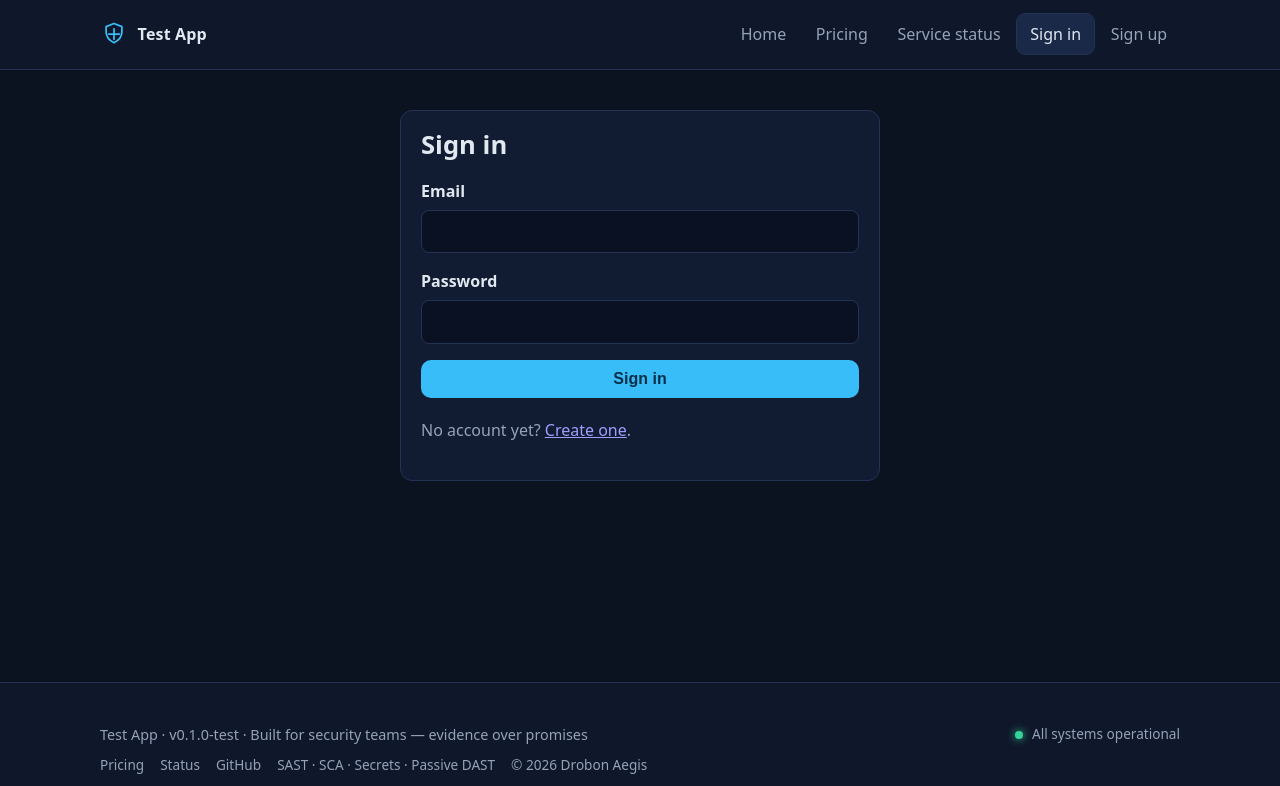
Scenario: login page › Pentester login lands on the Pentester assessment dashboard
Step 1. Type "pentester@example.test" into the field labelled "Email" → (640, 232), box 421,210 -> 859,253
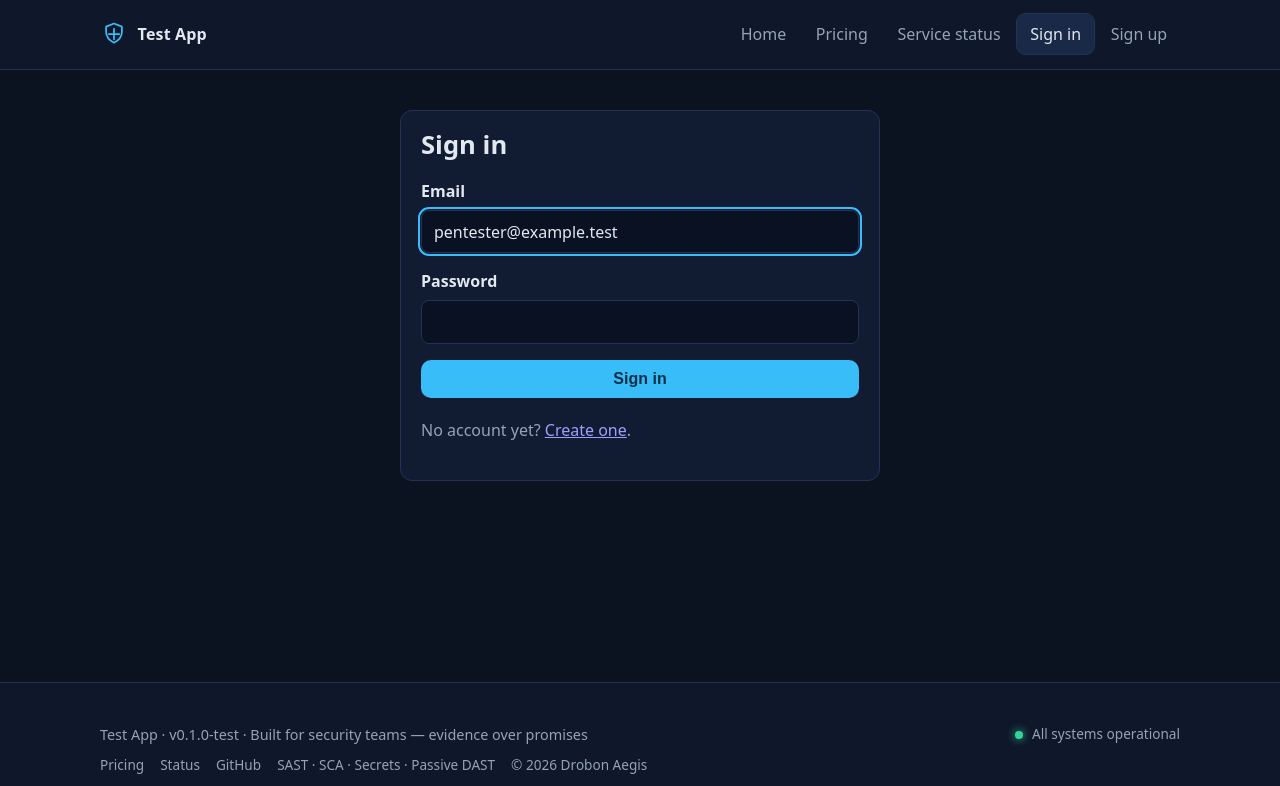
Step 2. Type "pentester-password" into the password field labelled "Password" → (640, 322), box 421,300 -> 859,344
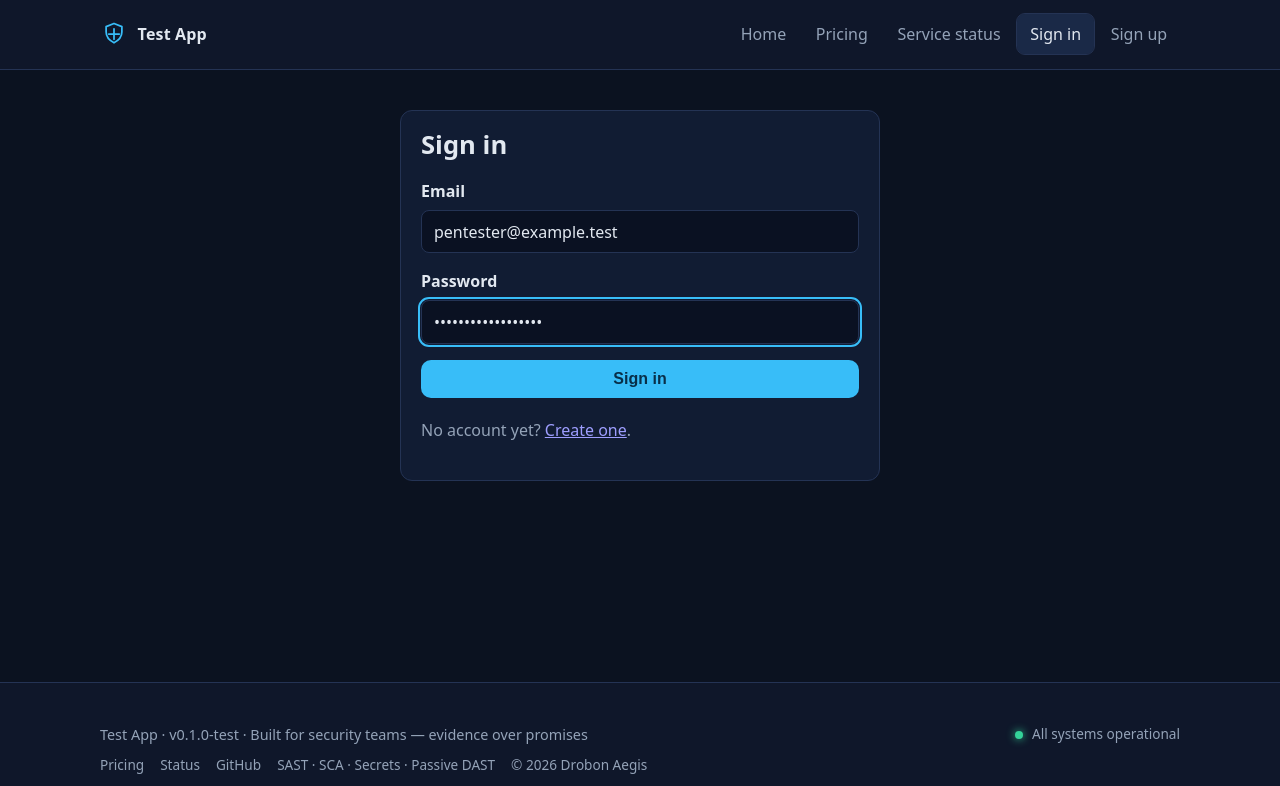
Step 3. Click the button "Sign in" → (640, 379), box 421,360 -> 859,398
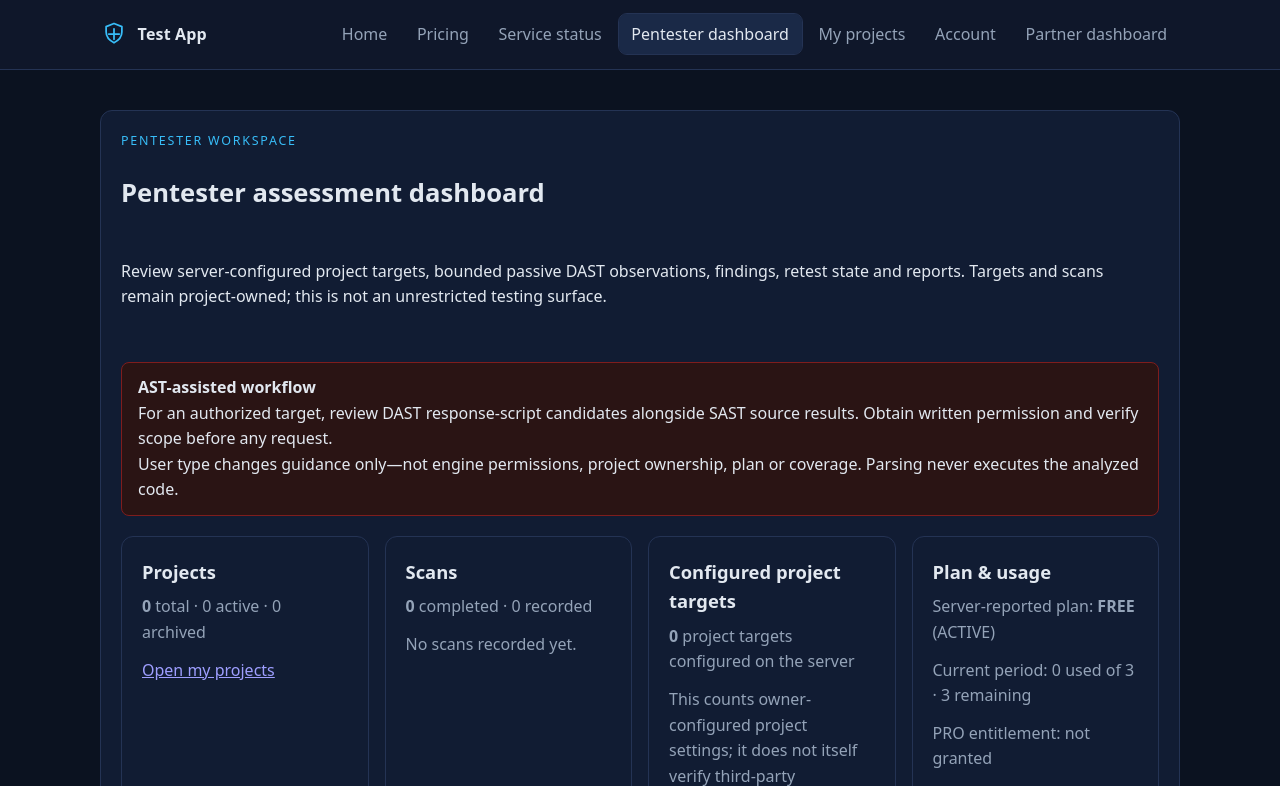
Result: the heading "Pentester assessment dashboard" is shown at 121,175 -> 545,210
